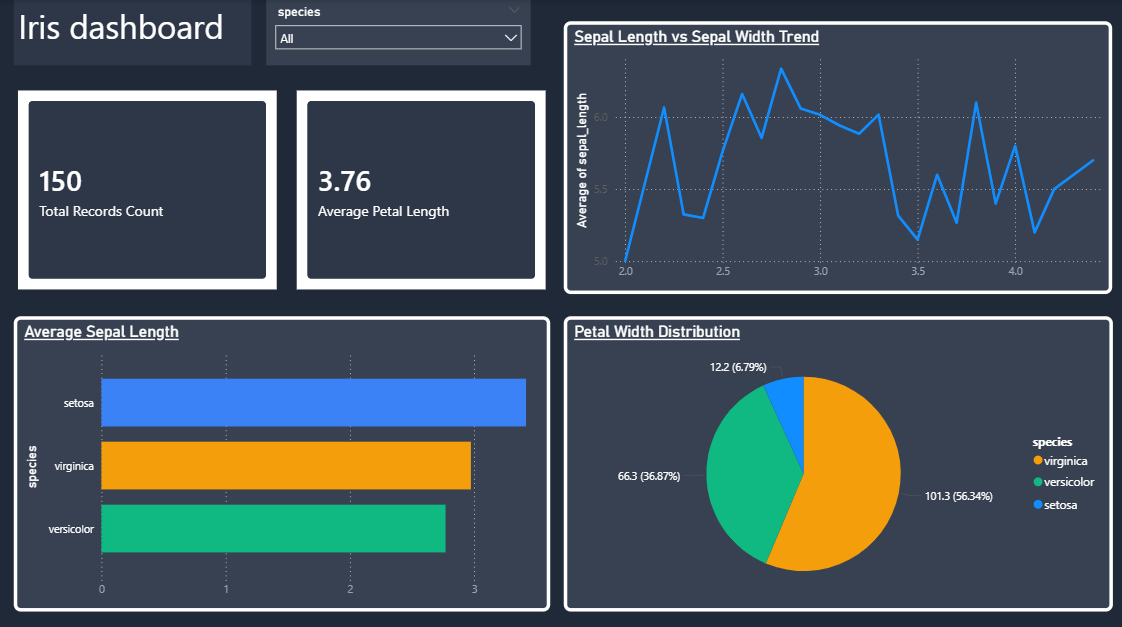

What the dashboard file says about the page in this screenshot:
{"tool":"powerbi","page":{"name":"Page 1","canvas":[1280,720],"ordinal":0},"visuals":[{"type":"clusteredBarChart","title":"Average Sepal Length","fields":{"Category":["1) iris.species"],"Y":["Avg(1) iris.sepal_width)"]},"box":[16,359.5,610.5,336.4],"z":0},{"type":"pieChart","title":"Petal Width Distribution","fields":{"Category":["1) iris.species"],"Y":["Sum(1) iris.petal_width)"]},"box":[640.7,359.5,624.7,336.4],"z":1000},{"type":"textbox","box":[16,0,270.5,74.8],"z":2000},{"type":"lineChart","title":"Sepal Length vs Sepal Width Trend","fields":{"Y":["Avg(1) iris.sepal_length)"],"Category":["1) iris.sepal_width"]},"box":[641.4,24.2,624.4,310],"z":3000},{"type":"cardVisual","fields":{"Data":["Avg(1) iris.petal_length)"]},"box":[332.8,97.9,293.7,236.7],"z":4000},{"type":"cardVisual","fields":{"Data":["CountNonNull(1) iris.species)"]},"box":[16,97.9,304.3,236.7],"z":5000},{"type":"slicer","fields":{"Values":["1) iris.species"]},"box":[302.6,0,300.8,74.8],"z":6000}]}

Visuals, with their boxes in screenshot pixels (x1, y1, x2, y2), scaled from the page's 1280x720 canvas onto the 1122x627 screenshot:
"Average Sepal Length" clusteredBarChart: bbox(14, 313, 549, 606)
"Petal Width Distribution" pieChart: bbox(562, 313, 1109, 606)
textbox: bbox(14, 0, 251, 65)
"Sepal Length vs Sepal Width Trend" lineChart: bbox(562, 21, 1110, 291)
cardVisual - Avg(1) iris.petal_length): bbox(292, 85, 549, 291)
cardVisual - CountNonNull(1) iris.species): bbox(14, 85, 281, 291)
slicer - 1) iris.species: bbox(265, 0, 529, 65)
